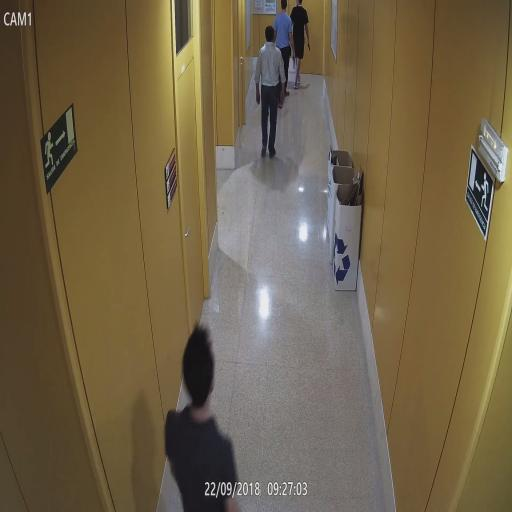Handgun: (290, 50, 298, 70), (305, 39, 312, 52)
